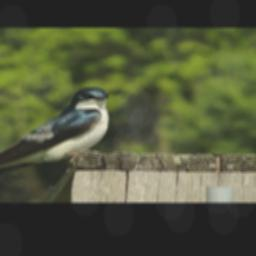Swallow: (0, 86, 112, 183)
